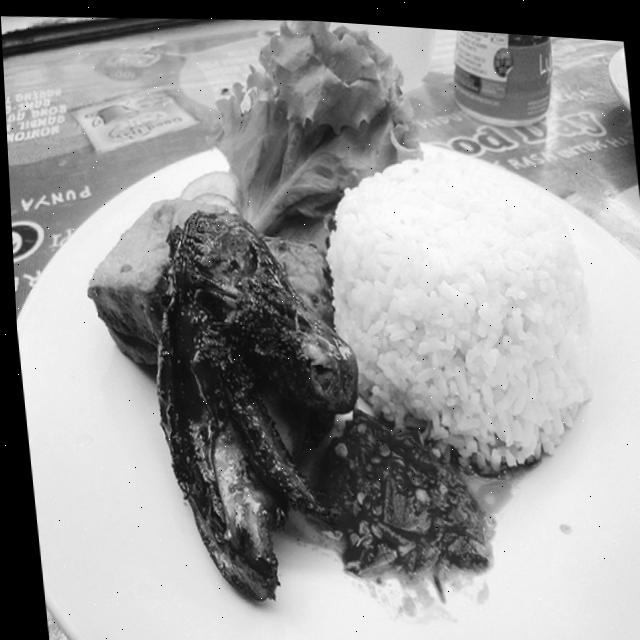鸡肉料理 含炸鸡: (27, 29, 640, 640)
